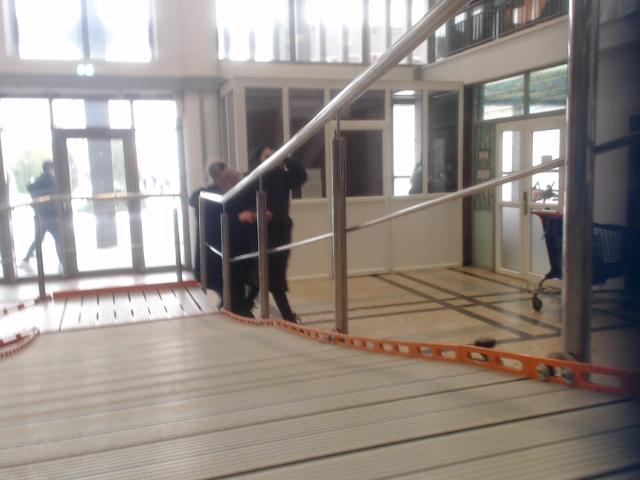rampDown: (0, 285, 639, 479)
ramps-railing: (331, 0, 639, 361), (211, 0, 464, 203), (223, 7, 452, 202), (199, 179, 267, 317), (35, 215, 47, 300), (270, 234, 329, 250), (174, 206, 181, 281), (77, 192, 148, 199), (56, 196, 66, 199)
